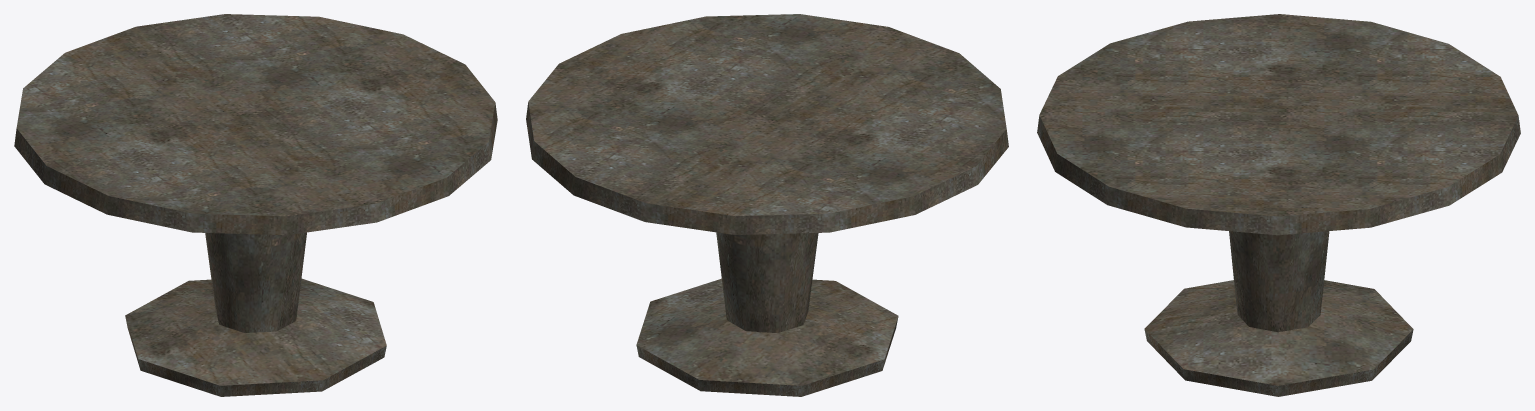
The model's file is frn_tato_tbl_cafe_table_s01_l1.fbx.
3 renders of one model, left to right at view 1: azimuth 30°, elevation 25°; view 2: azimuth 150°, elevation 25°; view 3: azimuth 270°, elevation 25°, orthographic.
Visible parts, largest first — view 1: mesh_node; view 2: mesh_node; view 3: mesh_node.
Boxes of the visible parts, box(x1,y1,x2,y2) form: mesh_node: box(14, 14, 497, 396); mesh_node: box(526, 14, 1008, 396); mesh_node: box(1037, 14, 1520, 396).
Bounding box in the file's own units: 1.44 × 0.7427 × 1.44.
